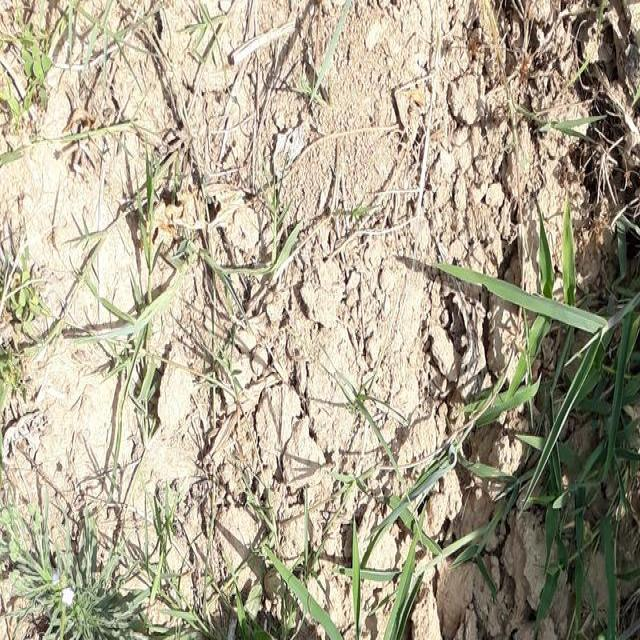weed: (500, 247, 640, 640), (2, 520, 150, 640), (272, 559, 455, 640), (2, 255, 50, 443), (145, 184, 184, 356), (3, 30, 53, 152)
